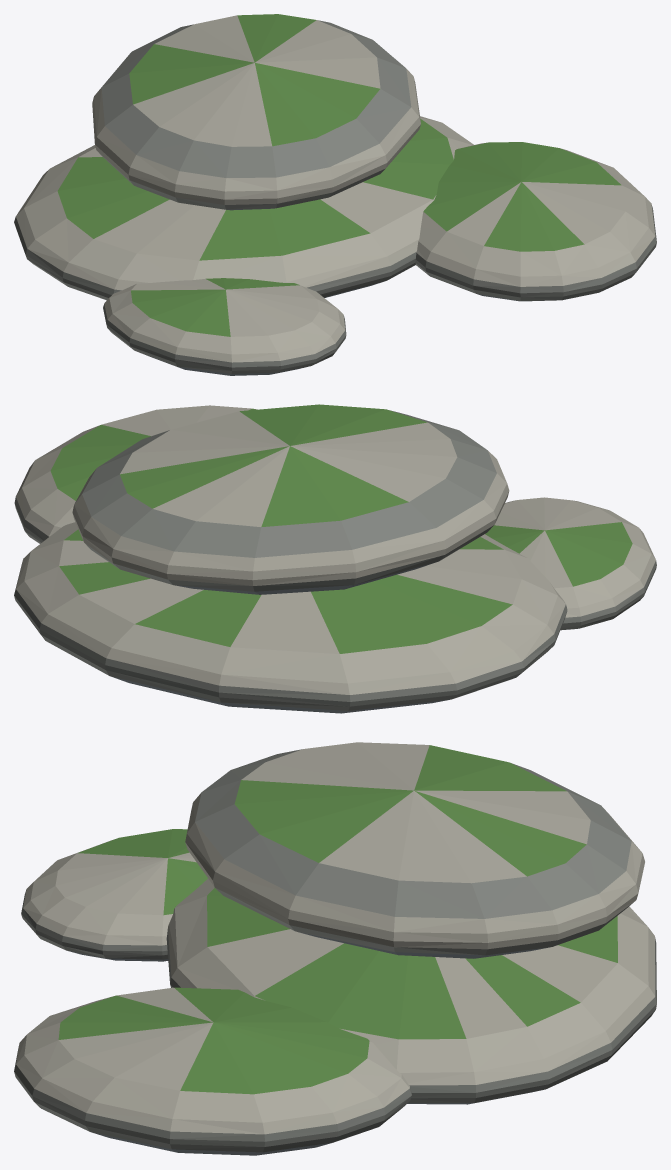
The model's file is RockOutcropFar.obj.
3 renders of one model, top to bottom at view 1: azimuth 30°, elevation 25°; view 2: azimuth 150°, elevation 25°; view 3: azimuth 270°, elevation 25°, orthographic. The views are drawn at different scales.
Size of the model in its own units: 8.03 by 2.77 by 7.05.
